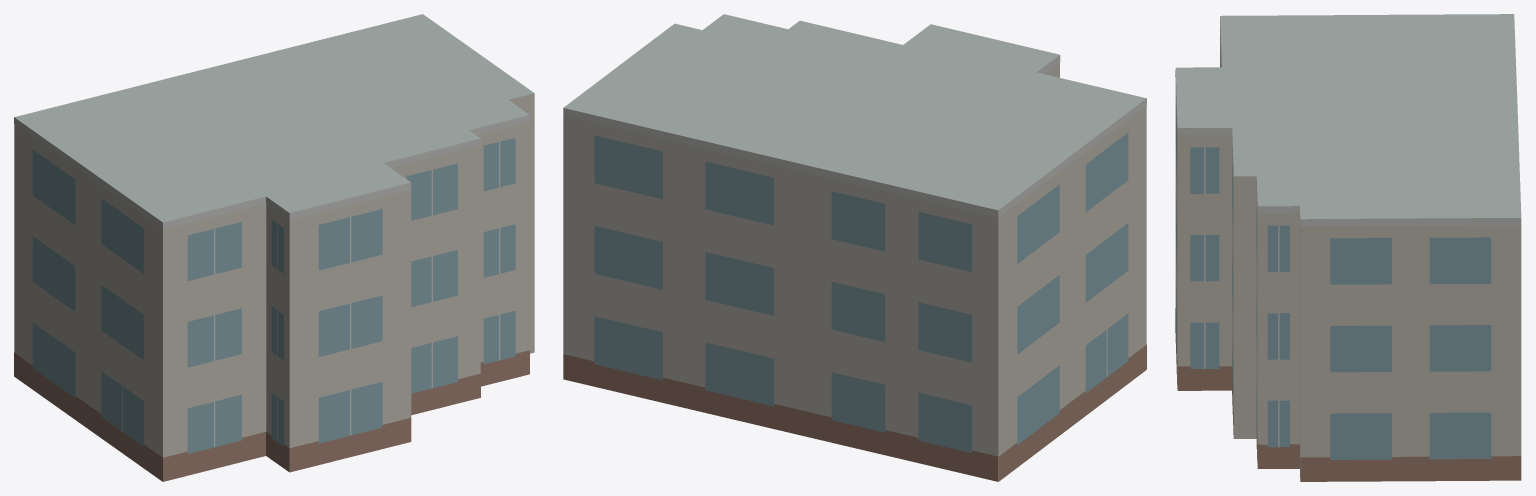
Rendered from survey-upis-32772462.glb.
The picture shows the model from 3 angles, left to right: view 1: azimuth 30°, elevation 25°; view 2: azimuth 150°, elevation 25°; view 3: azimuth 270°, elevation 25°; orthographic projection. The views are drawn at different scales.
Parts seen in each view (by area): view 1: survey-upis-32772462.tmp; view 2: survey-upis-32772462.tmp; view 3: survey-upis-32772462.tmp.
Part boxes in pixels (<box>): survey-upis-32772462.tmp: <box>14,14,534,481</box>; survey-upis-32772462.tmp: <box>563,14,1146,481</box>; survey-upis-32772462.tmp: <box>1175,14,1521,481</box>.
Size of the model in its own units: 15.33 by 9.15 by 10.93.
